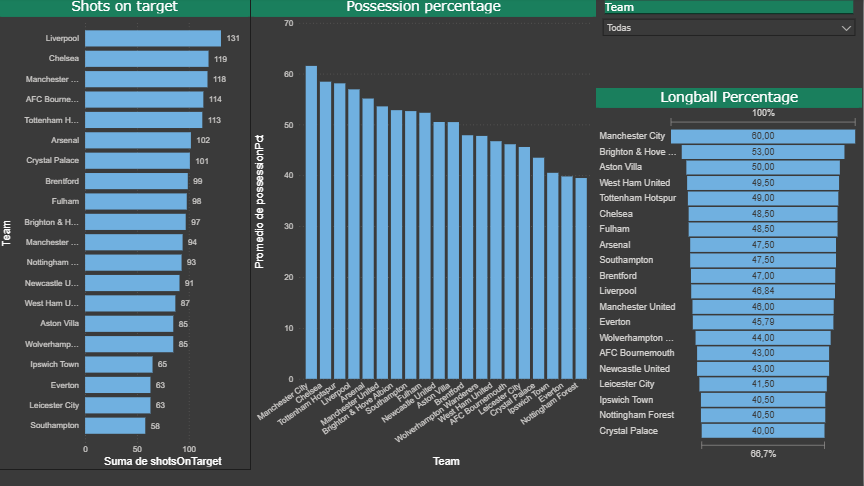

This screenshot's page, from the dashboard's own definition file:
{"tool":"powerbi","page":{"name":"Performance","canvas":[1280,720],"ordinal":1},"visuals":[{"type":"barChart","title":"Shots on target","fields":{"Category":["TeamStatsExport (2).Team"],"Y":["Sum(TeamStatsExport (2).shotsOnTarget)"]},"box":[10.3,0,371.8,695],"z":0},{"type":"columnChart","title":"Possession percentage","fields":{"Category":["TeamStatsExport (2).Team"],"Y":["Avg(TeamStatsExport (2).possessionPct)"]},"box":[382,0,506.9,695],"z":1000},{"type":"slicer","fields":{"Values":["TeamStatsExport (2).Team"]},"box":[889,0,390.9,133.7],"z":2000},{"type":"funnel","title":"Longball Percentage","fields":{"Category":["TeamStatsExport (2).Team"],"Y":["Avg(TeamStatsExport (2).longballPct)"]},"box":[889,133.7,390.9,551],"z":3000}]}

Visuals, with their boxes in screenshot pixels (x1, y1, x2, y2), scaled from the page's 1280x720 canvas onto the 864x486 screenshot:
"Shots on target" barChart: x1=7, y1=0, x2=258, y2=469
"Possession percentage" columnChart: x1=258, y1=0, x2=600, y2=469
slicer - TeamStatsExport (2).Team: x1=600, y1=0, x2=863, y2=90
"Longball Percentage" funnel: x1=600, y1=90, x2=863, y2=462
